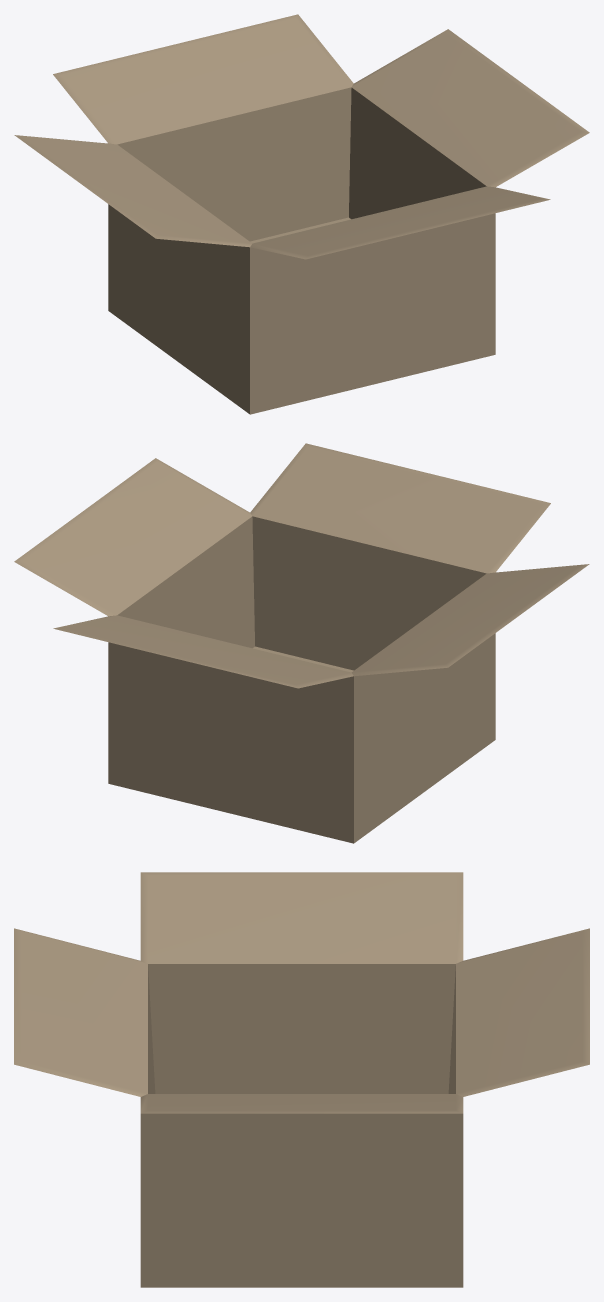
Rendered from Caja1_FBX.fbx.
3 renders of one model, top to bottom at view 1: azimuth 30°, elevation 25°; view 2: azimuth 150°, elevation 25°; view 3: azimuth 270°, elevation 25°, orthographic. The views are drawn at different scales.
Visible parts, largest first — view 1: pCube1; view 2: pCube1; view 3: pCube1.
Boxes of the visible parts, x1,y1,x2,y2 form: pCube1: (14, 14, 589, 414); pCube1: (14, 443, 589, 843); pCube1: (14, 872, 589, 1287).
Size of the model in its own units: 3.55 by 1.55 by 3.58.
